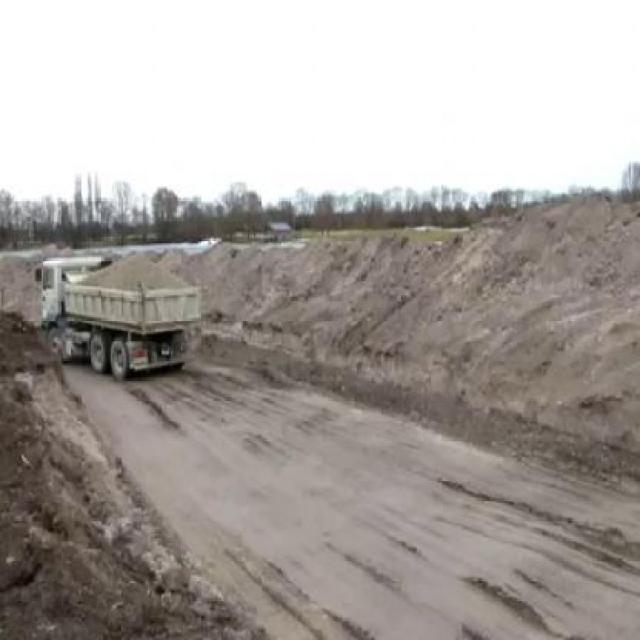Dump Truck: (34, 254, 200, 378)
